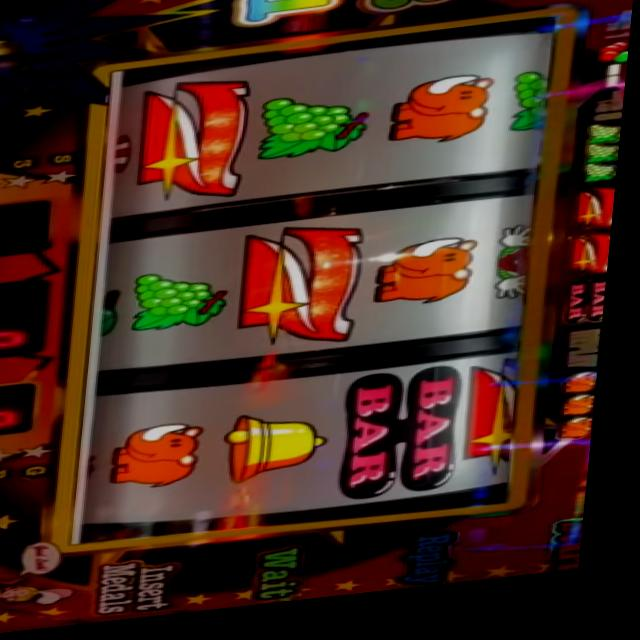bar: (345, 375, 472, 513), (570, 291, 613, 342)
bell: (230, 414, 340, 491)
cherry: (599, 55, 631, 79)
clown: (495, 237, 543, 314)
display: (80, 29, 569, 550)
elephant: (391, 82, 498, 159), (378, 245, 487, 320), (116, 425, 216, 497), (565, 431, 603, 458), (570, 384, 607, 410), (568, 408, 603, 432)
grape: (258, 96, 377, 168), (134, 270, 239, 338), (512, 80, 555, 147), (587, 156, 624, 179), (589, 136, 625, 159), (585, 176, 622, 198)
z: (239, 227, 374, 362), (136, 79, 257, 211), (469, 369, 534, 491), (571, 244, 617, 292), (575, 200, 621, 247)
